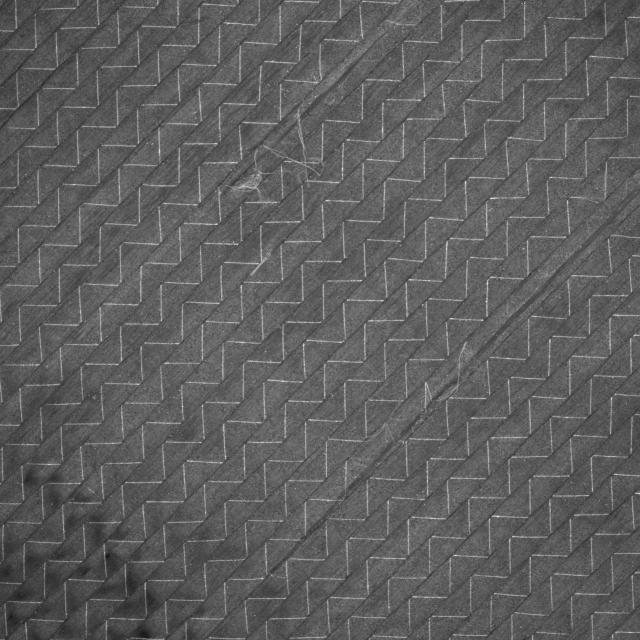carbon-fibre-defect: (216, 85, 375, 234)
